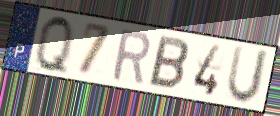4: (190, 43, 220, 98)
7: (77, 20, 114, 77)
B: (146, 33, 191, 92)
Q: (35, 13, 75, 78)
R: (110, 27, 151, 87)
U: (224, 44, 272, 107)
